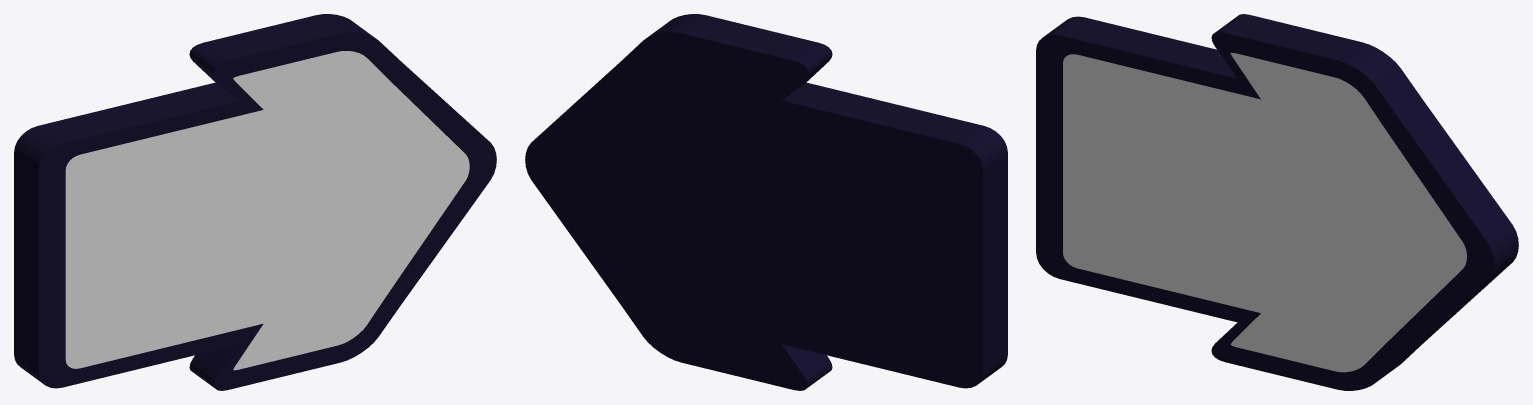
The model's file is Arrow_board.fbx.
3 views of the same model, side by side, from view 1: azimuth 30°, elevation 25°; view 2: azimuth 150°, elevation 25°; view 3: azimuth 330°, elevation 25° (orthographic).
Parts seen in each view (by area): view 1: Arrow; view 2: Arrow; view 3: Arrow.
Part boxes in pixels (x1,y1,x2,y2): Arrow: (14,14,496,390); Arrow: (525,14,1007,390); Arrow: (1036,14,1518,390).
Bounding box in the file's own units: 44.78 × 30.77 × 4.18.
